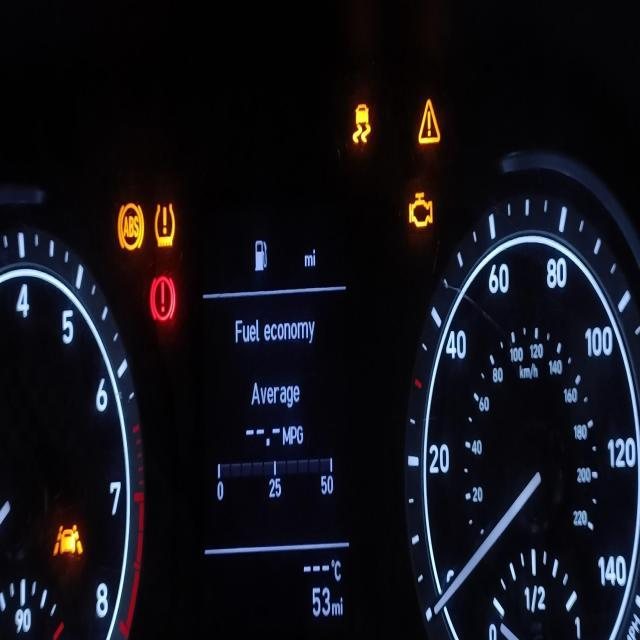ABS: (113, 192, 149, 258)
CriticalWarning: (417, 92, 442, 148)
EngineWarning: (404, 184, 436, 230)
HandBrakeWarning: (146, 266, 180, 332)
TractionControl: (349, 86, 374, 154)
TyrePressureLow: (150, 196, 181, 252)
